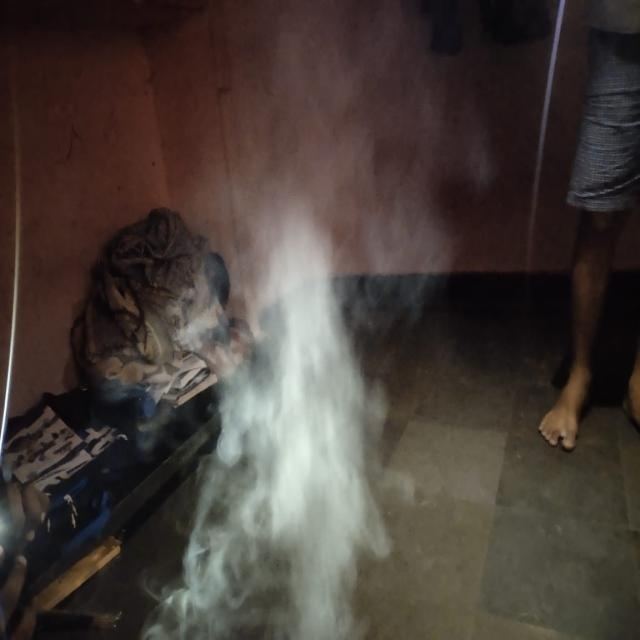smoke: (220, 241, 374, 574)
